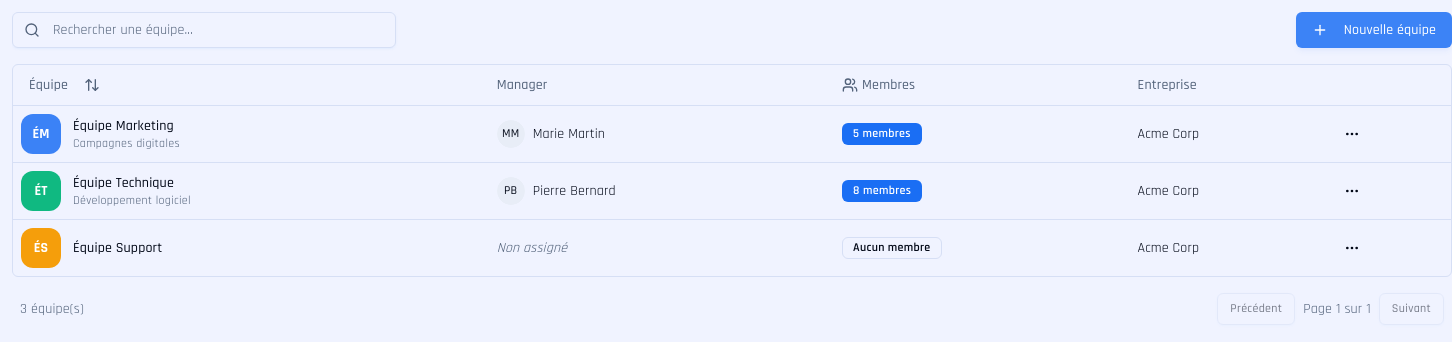
Test: TeamsDataTable › Recherche › filtre les équipes par description
In the field with placeholder "Rechercher une équipe...": x=204, y=30 [12,12,396,48], type "logiciel"
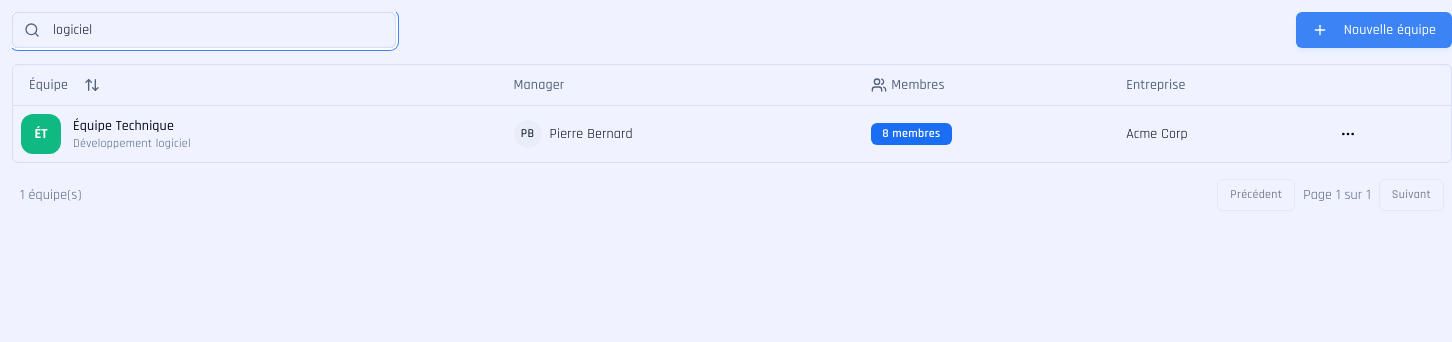
Check: the text "Équipe Marketing" is gone
